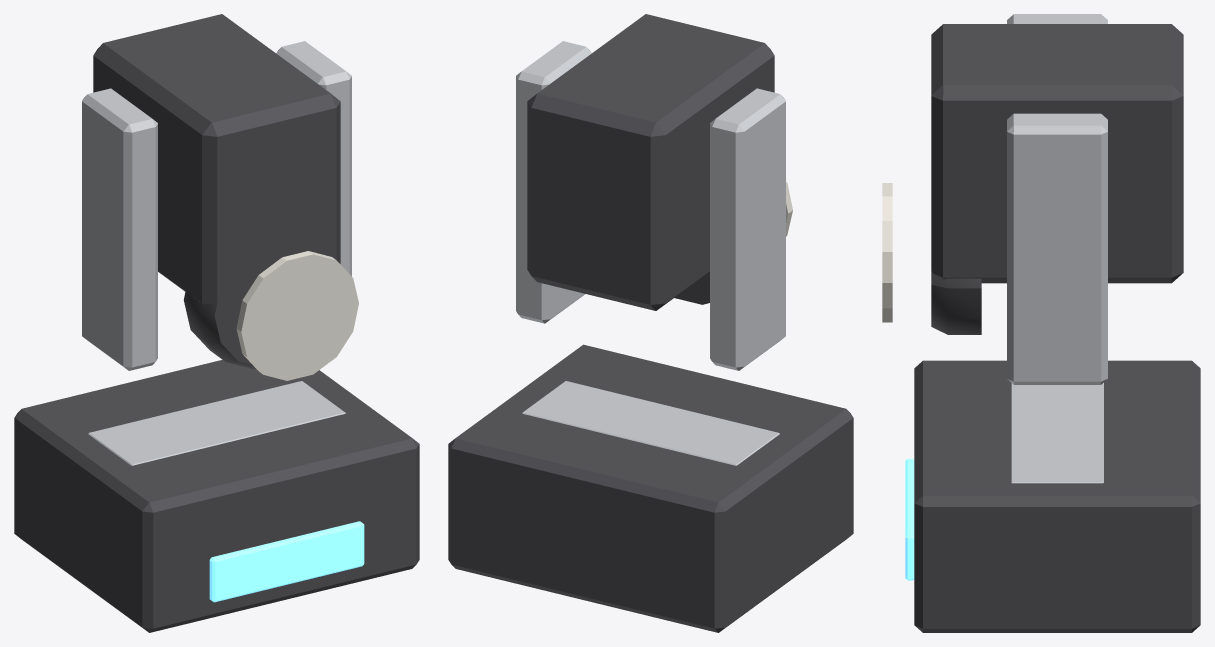
Rendered from live-music-venue-and-festival-stage-moving-head-light-0781fce0.glb.
3 renders of one model, left to right at view 1: azimuth 30°, elevation 25°; view 2: azimuth 150°, elevation 25°; view 3: azimuth 270°, elevation 25°, orthographic. The views are drawn at different scales.
Parts seen in each view (by area): view 1: moving-head-light, head, yoke, lens; view 2: moving-head-light, head, yoke; view 3: moving-head-light, head, yoke, lens.
Boxes of the visible parts, <box> form: moving-head-light: <box>14,360,419,632</box>; head: <box>93,14,340,369</box>; yoke: <box>82,41,351,465</box>; lens: <box>236,251,358,380</box>; moving-head-light: <box>448,344,853,632</box>; head: <box>527,14,774,310</box>; yoke: <box>516,41,785,465</box>; moving-head-light: <box>905,360,1200,632</box>; head: <box>931,24,1183,334</box>; yoke: <box>1007,14,1107,483</box>; lens: <box>882,183,892,322</box>.
Size of the model in its own units: 0.4 by 0.67 by 0.378.
